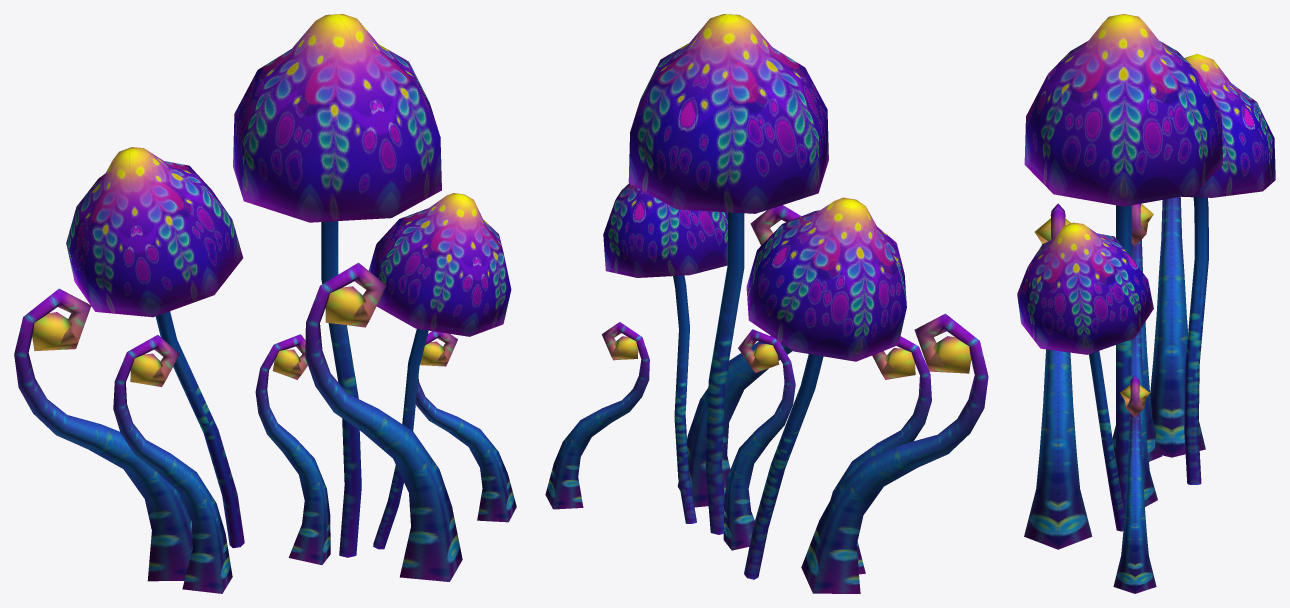
File: Mushroom_04G_c.FBX
3 renders of one model, left to right at view 1: azimuth 30°, elevation 25°; view 2: azimuth 150°, elevation 25°; view 3: azimuth 270°, elevation 25°, orthographic. The views are drawn at different scales.
Visible parts, largest first — view 1: Mushroom_04G_c; view 2: Mushroom_04G_c; view 3: Mushroom_04G_c.
Boxes of the visible parts, x1=… form: Mushroom_04G_c: x1=14, y1=14, x2=516, y2=593; Mushroom_04G_c: x1=545, y1=14, x2=988, y2=593; Mushroom_04G_c: x1=1017, y1=14, x2=1275, y2=593.
Size of the model in its own units: 325 by 351 by 165.
